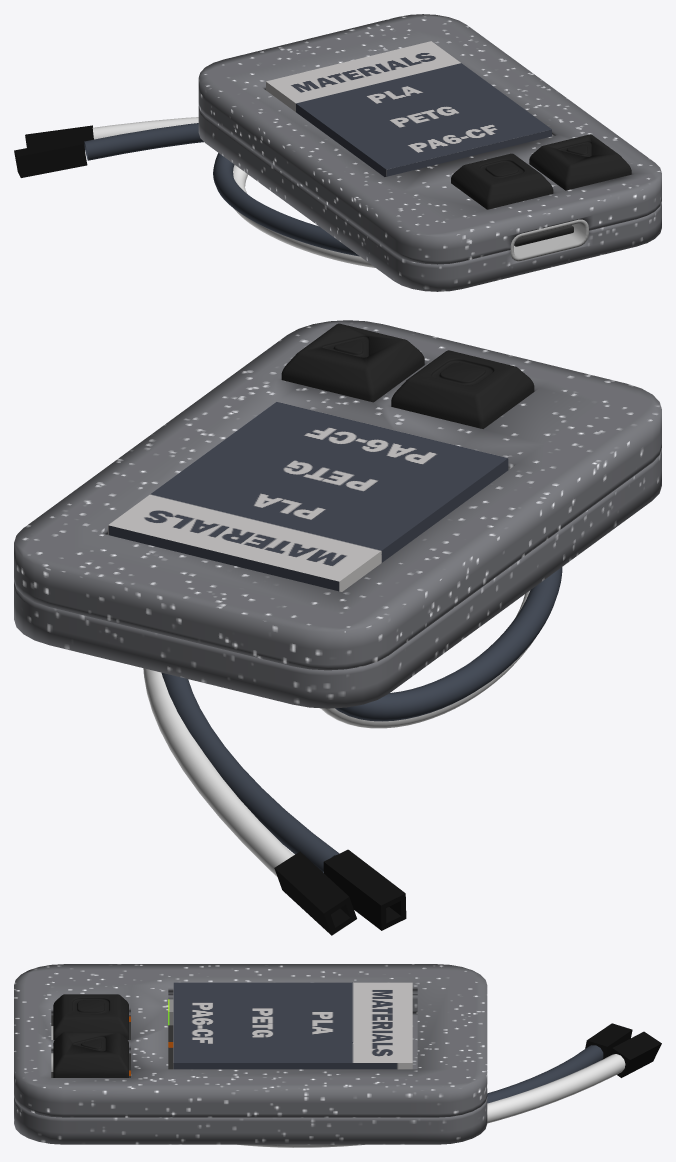
File: miniDevice.glb
3 views of the same model, one above another, from view 1: azimuth 30°, elevation 25°; view 2: azimuth 150°, elevation 25°; view 3: azimuth 270°, elevation 25° (orthographic). The views are drawn at different scales.
Parts seen in each view (by area): view 1: topCover.001, display, bottomCover, NurbsPath.001, buttomEnter, buttomSelect, NurbsPath, usbC, Cube, Cube.001; view 2: topCover.001, display, bottomCover, NurbsPath.001, NurbsPath, buttomSelect, buttomEnter, Cube, Cube.001; view 3: topCover.001, display, bottomCover, buttomSelect, NurbsPath, buttomEnter, NurbsPath.001, Cube.001, Cube, Cube.002.
Boxes of the visible parts, left/top/right/bottom form: topCover.001: left=198, top=14, right=661, bottom=264; display: left=266, top=41, right=551, bottom=176; bottomCover: left=198, top=106, right=661, bottom=291; NurbsPath.001: left=84, top=123, right=359, bottom=256; buttomEnter: left=451, top=153, right=553, bottom=209; buttomSelect: left=529, top=134, right=631, bottom=190; NurbsPath: left=92, top=117, right=375, bottom=267; usbC: left=510, top=219, right=588, bottom=261; Cube: left=14, top=137, right=87, bottom=177; Cube.001: left=25, top=125, right=93, bottom=150; topCover.001: left=14, top=320, right=661, bottom=670; display: left=108, top=402, right=508, bottom=591; bottomCover: left=14, top=448, right=661, bottom=708; NurbsPath.001: left=161, top=567, right=562, bottom=872; NurbsPath: left=143, top=590, right=535, bottom=876; buttomSelect: left=281, top=323, right=424, bottom=402; buttomEnter: left=391, top=350, right=534, bottom=428; Cube: left=323, top=849, right=406, bottom=930; Cube.001: left=274, top=851, right=356, bottom=935; topCover.001: left=14, top=964, right=487, bottom=1117; display: left=173, top=982, right=412, bottom=1069; bottomCover: left=14, top=995, right=487, bottom=1144; buttomSelect: left=53, top=1032, right=128, bottom=1077; NurbsPath: left=237, top=1054, right=625, bottom=1147; buttomEnter: left=53, top=994, right=128, bottom=1039; NurbsPath.001: left=487, top=1045, right=603, bottom=1103; Cube.001: left=608, top=1031, right=661, bottom=1077; Cube: left=585, top=1023, right=632, bottom=1059; Cube.002: left=51, top=1015, right=173, bottom=1077.
Bounding box in the file's own units: 4.15 × 1.64 × 6.5.
Materials: 13 (2 with a texture image).
